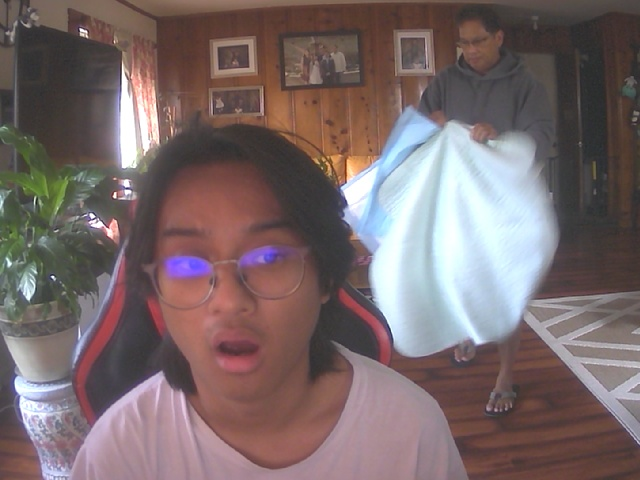fear: (141, 127, 340, 406)
